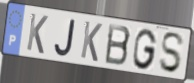B: (104, 22, 133, 67)
G: (132, 28, 158, 71)
J: (53, 18, 77, 59)
K: (25, 11, 50, 56), (79, 19, 104, 64)
S: (158, 31, 186, 75)
